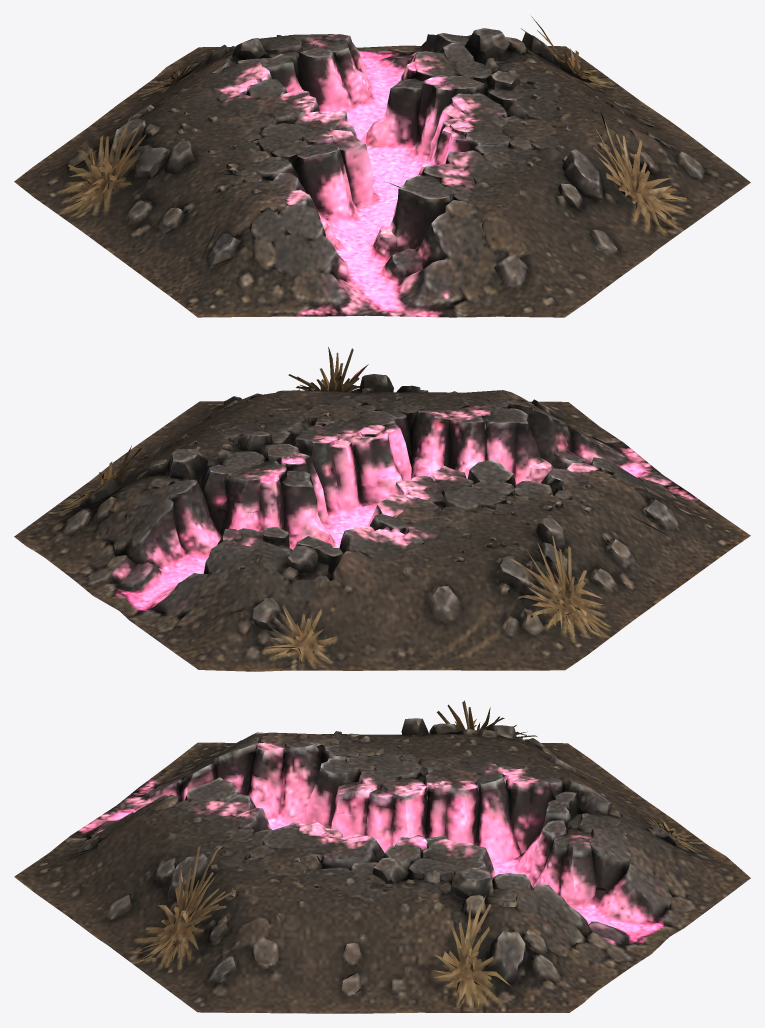
File: essence-rift.glb
3 renders of one model, top to bottom at view 1: azimuth 30°, elevation 25°; view 2: azimuth 150°, elevation 25°; view 3: azimuth 270°, elevation 25°, orthographic.
Visible parts, largest first — view 1: architecture; view 2: architecture; view 3: architecture.
Part boxes in pixels (<box>): architecture: <box>14,16,750,317</box>; architecture: <box>14,347,750,671</box>; architecture: <box>14,700,750,1013</box>.
Size of the model in its own units: 1.59 by 0.2941 by 1.82.
1 material, 1 textured.
